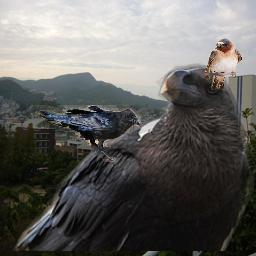Crow: (11, 62, 254, 251), (35, 105, 141, 162)
Swallow: (205, 38, 242, 90)
